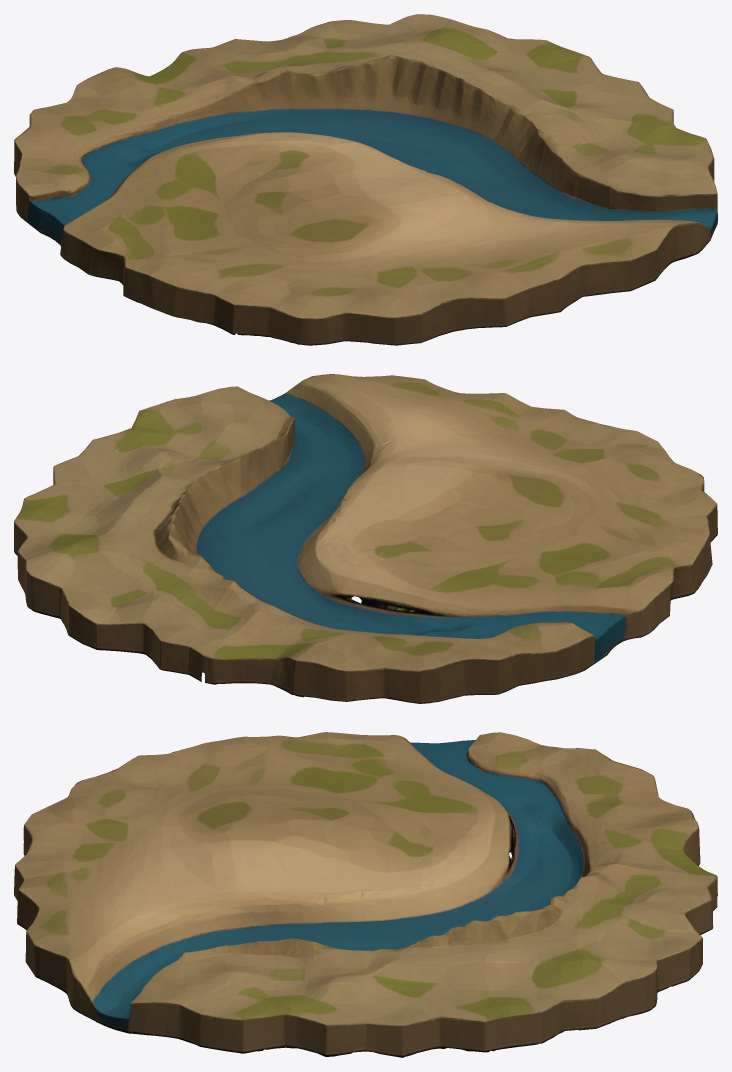
The picture shows the model from 3 angles, top to bottom: view 1: azimuth 30°, elevation 25°; view 2: azimuth 150°, elevation 25°; view 3: azimuth 270°, elevation 25°; orthographic projection. The views are drawn at different scales.
Parts seen in each view (by area): view 1: world; view 2: world; view 3: world.
Part boxes in pixels (left/top/right/bottom): world: left=14, top=14, right=717, bottom=345; world: left=14, top=374, right=717, bottom=703; world: left=14, top=732, right=717, bottom=1057.
Bounding box in the file's own units: 0.9963 × 0.1114 × 0.9967.
Materials: 1 (1 with a texture image).
